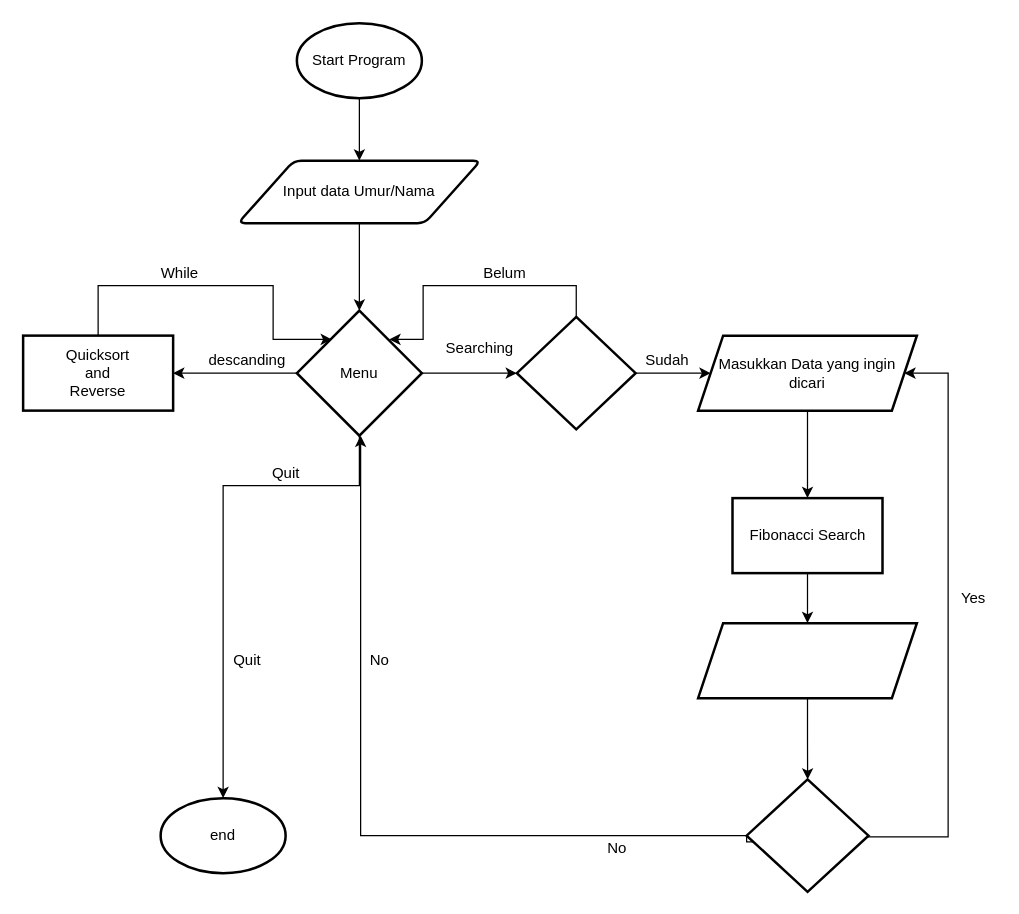
Image size: 1019x914. Some labels were removed from this diagram. Here are the shapes that lost their labels. From the top down, the centre of each, then its label:
At pixel 575 372: "Sudah descanding/ Belum".
At pixel 807 660: "Output index dari Data yang dicari".
At pixel 807 835: "ingin mencari lagi?".
